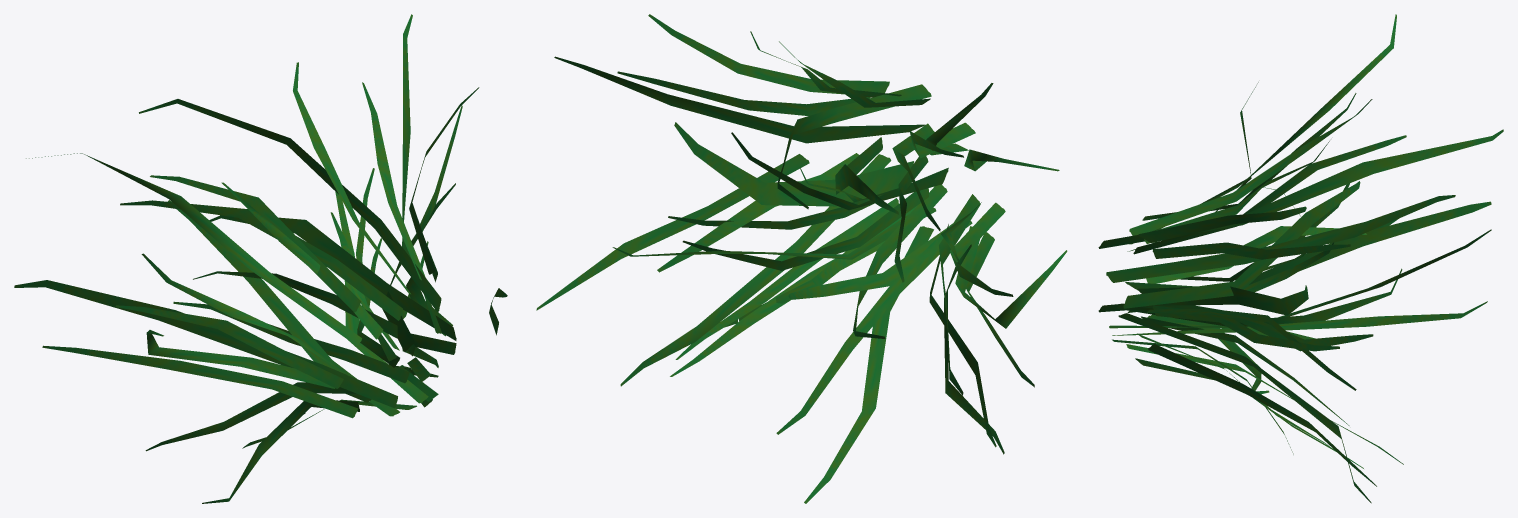
The model's file is grass.fbx.
3 views of the same model, side by side, from view 1: azimuth 30°, elevation 25°; view 2: azimuth 150°, elevation 25°; view 3: azimuth 270°, elevation 25° (orthographic). The views are drawn at different scales.
Parts seen in each view (by area): view 1: Plane.109; view 2: Plane.109; view 3: Plane.109.
Part boxes in pixels (left/top/right/bottom): Plane.109: left=14, top=14, right=507, bottom=503; Plane.109: left=536, top=14, right=1067, bottom=503; Plane.109: left=1098, top=14, right=1503, bottom=503.
Bounding box in the file's own units: 60.81 × 47.71 × 45.79.
